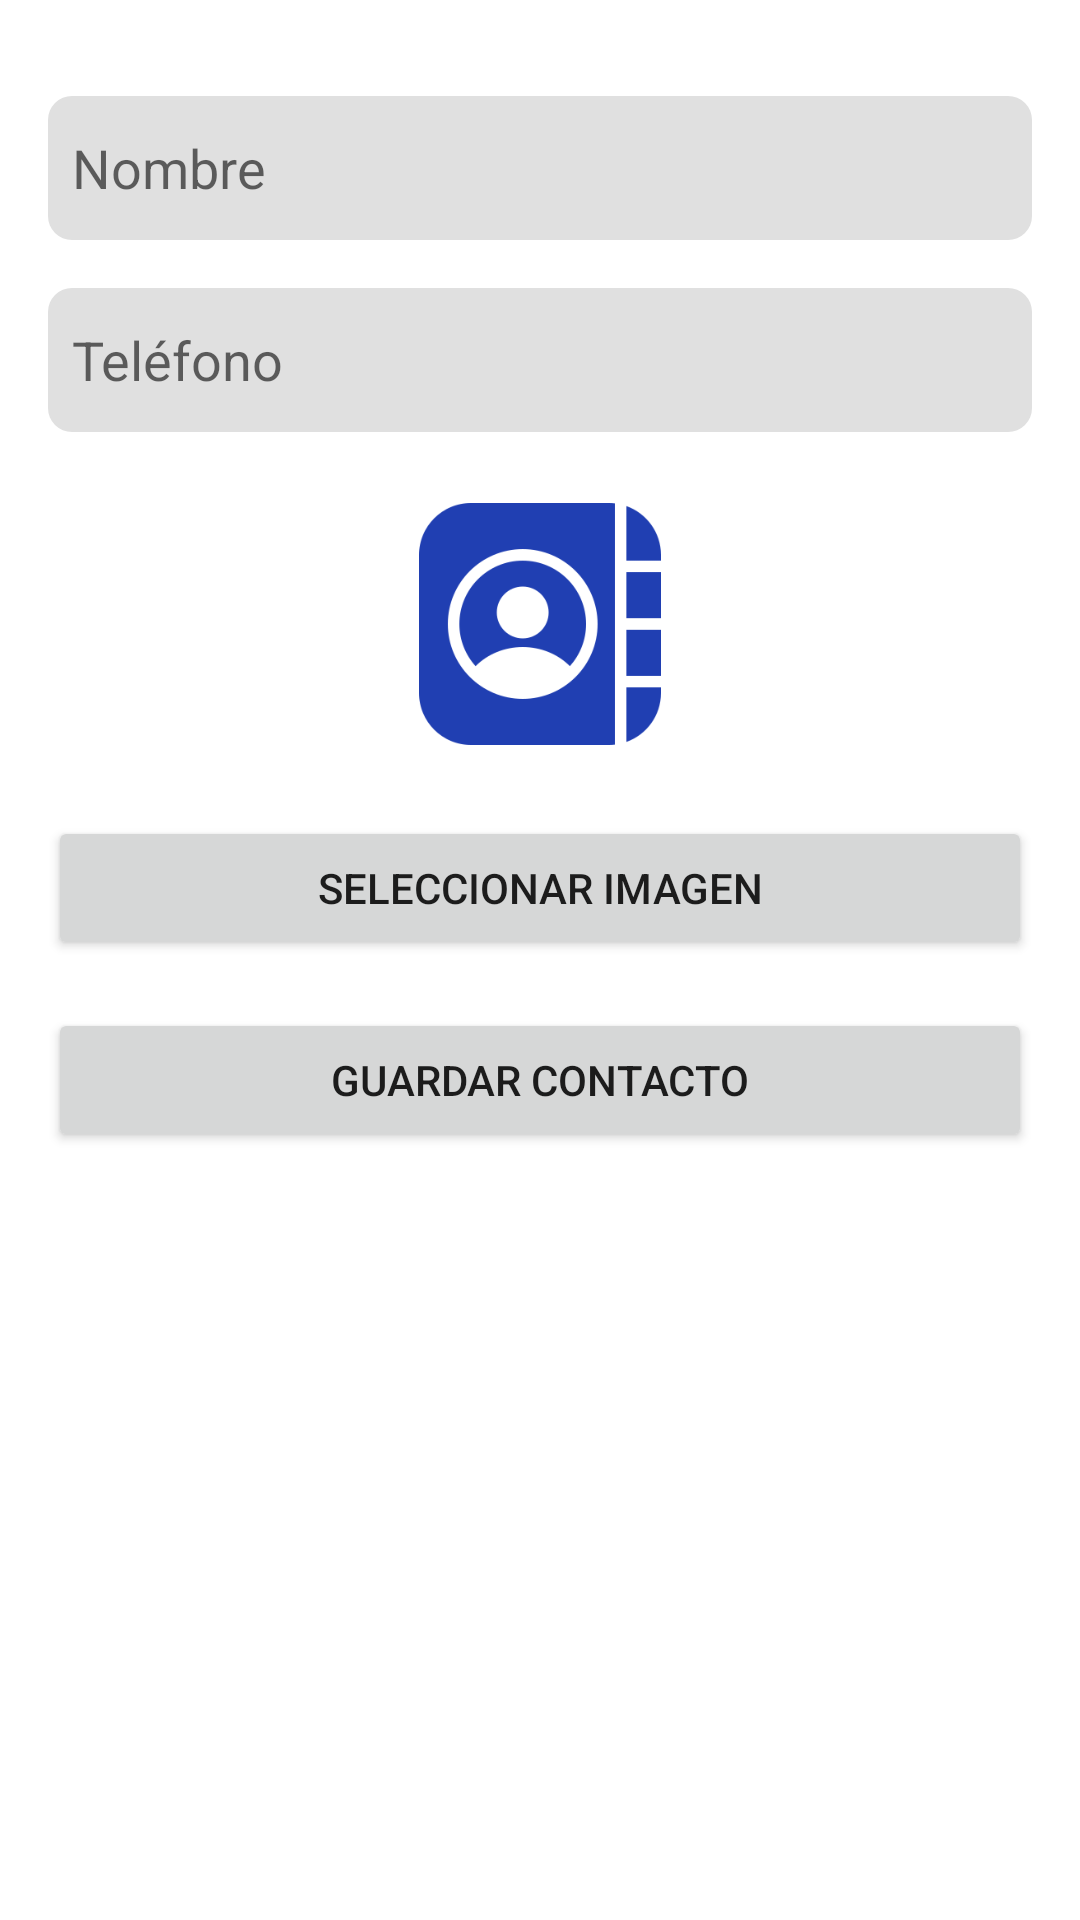

Icon click points for this 1080px×1920px phone screenshot, format [x,y]:
Imagen de contacto: [540,624]
